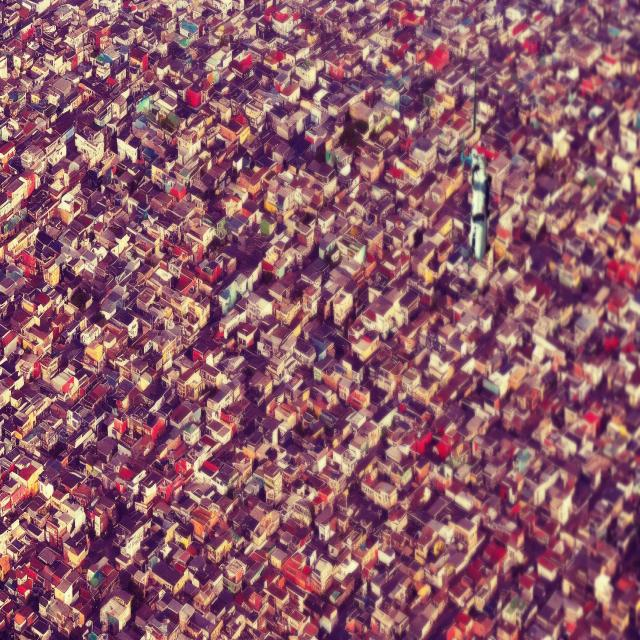airplane: (461, 61, 488, 261)
